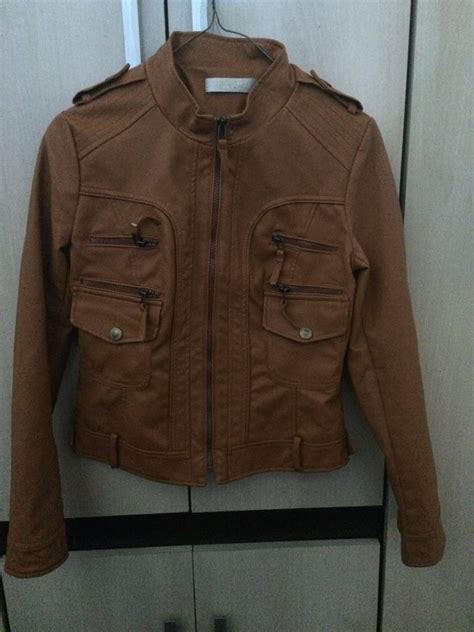cuero: (9, 32, 447, 579)
